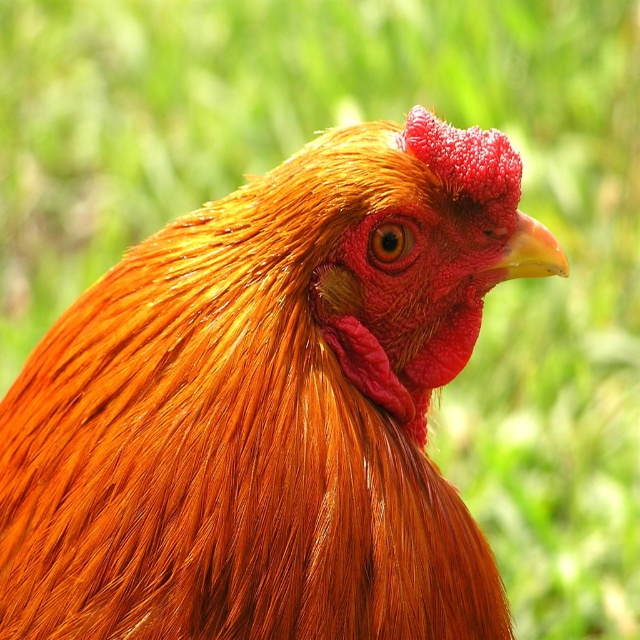Chicken: (0, 108, 572, 639)
